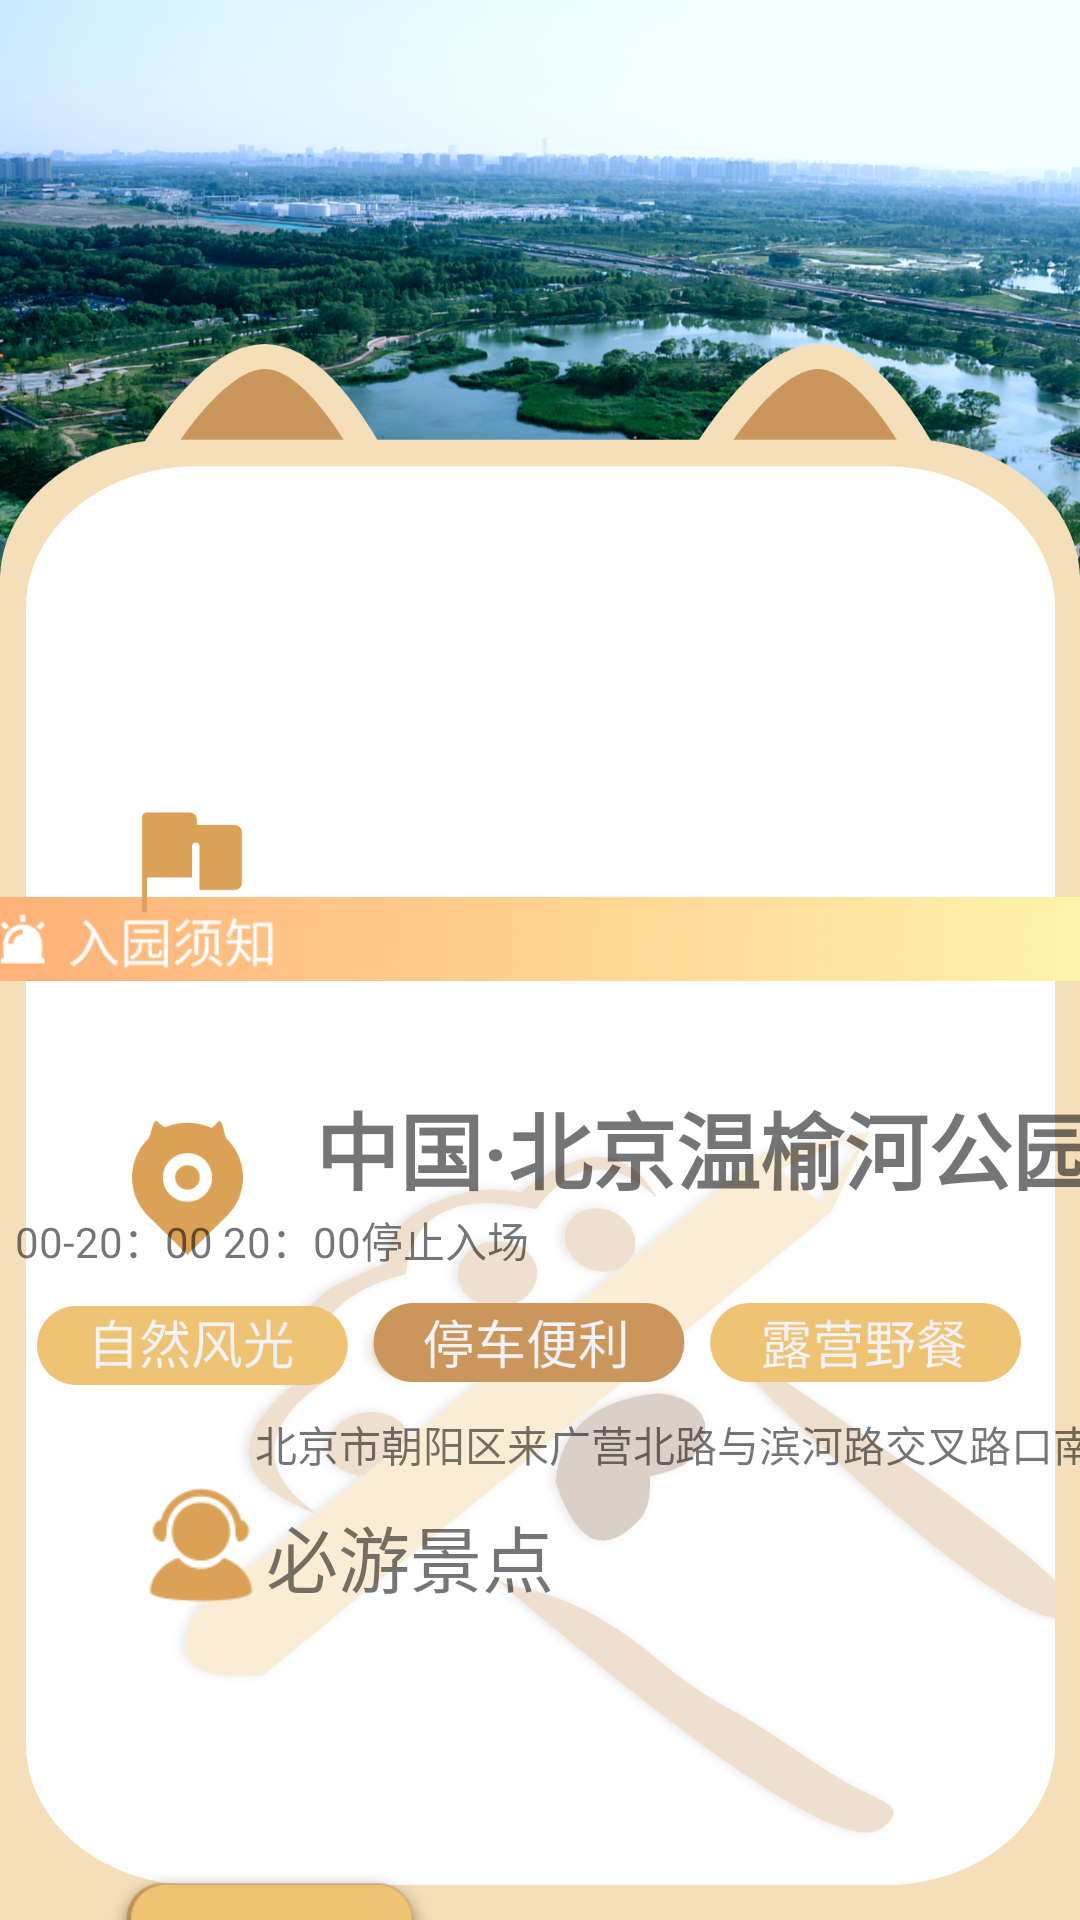

Locate icon controls on the screen. Image size 1080 x 1920, boxes as (x1, y1, x2, y2).
detail map: (132, 1121, 243, 1259)
